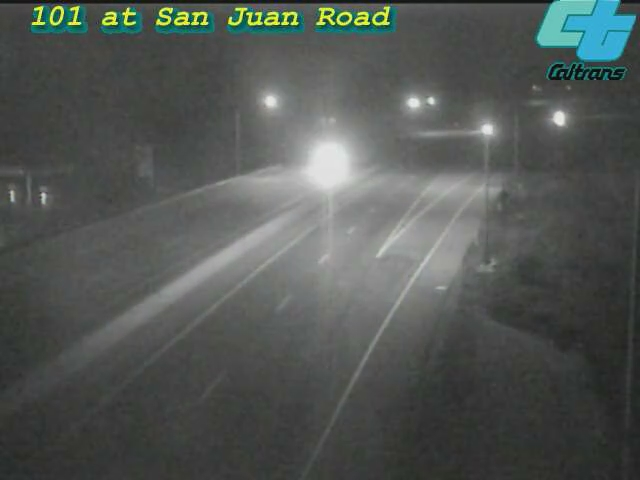vehicle: (283, 124, 363, 204), (462, 105, 512, 155), (533, 95, 583, 145)
